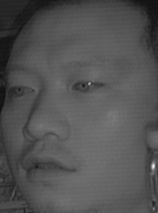eye: (69, 75, 103, 96), (7, 80, 37, 100)
mouth: (18, 144, 80, 184)
